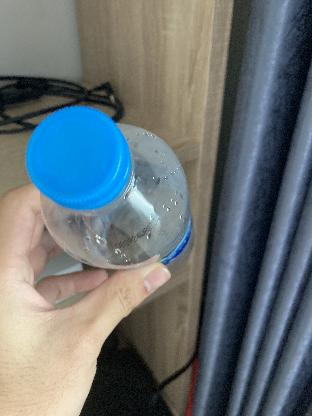Plastic Bottle: (24, 104, 198, 272)
